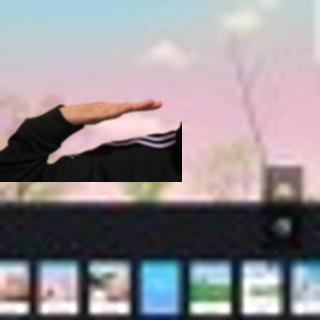WAIT: (60, 93, 163, 127)
